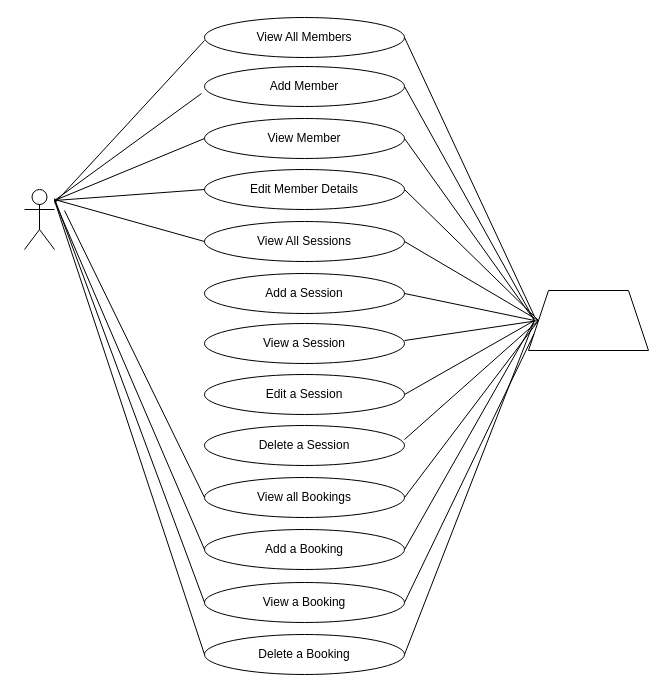
The diagram is 666 pixels wide and 692 high, and some of its shapes have lost their labels. The shapes that lost their labels are listed below. From the top down, each one's centre as x and y in pixels, then its label:
point (39, 219): Member
point (588, 320): Gym
